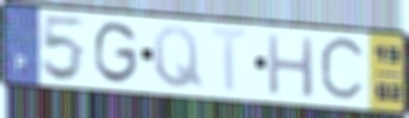5: (38, 12, 89, 83)
C: (317, 33, 369, 106)
G: (91, 19, 140, 86)
H: (266, 31, 317, 101)
Q: (151, 24, 206, 91)
T: (207, 24, 255, 96)
